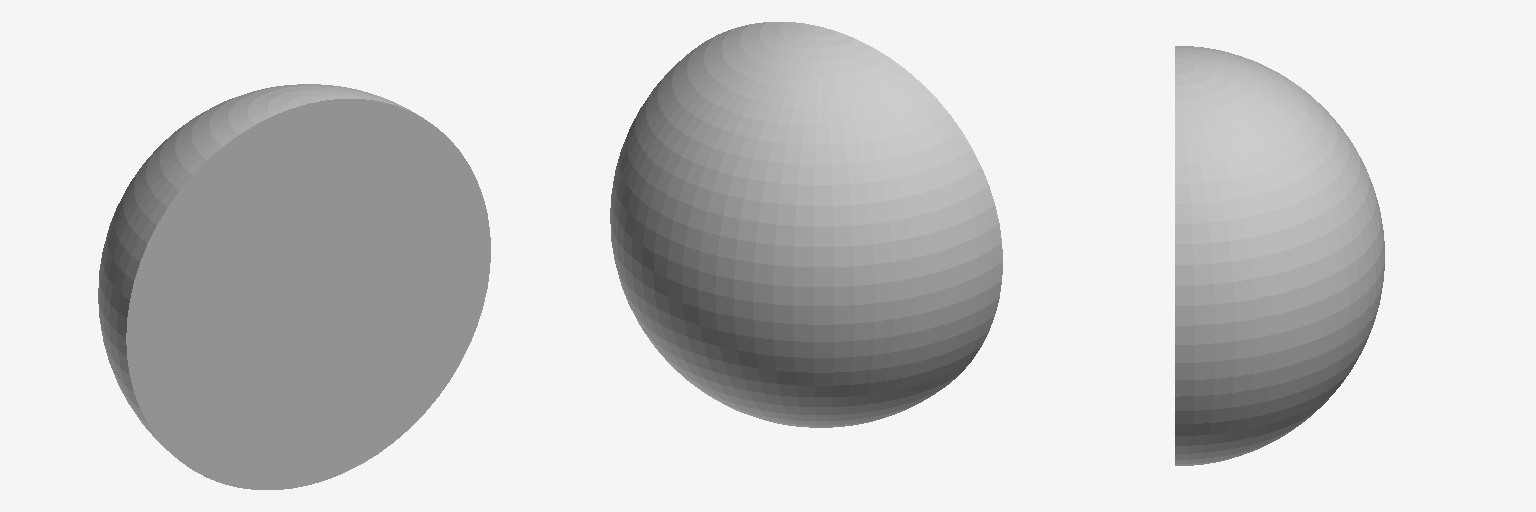
The model's file is hemisphere.obj.
3 views of the same model, side by side, from view 1: azimuth 30°, elevation 25°; view 2: azimuth 150°, elevation 25°; view 3: azimuth 270°, elevation 25° (orthographic).
Parts seen in each view (by area): view 1: Sphere_Sphere.003; view 2: Sphere_Sphere.003; view 3: Sphere_Sphere.003.
Boxes of the visible parts, box(x1,y1,x2,y2) form: Sphere_Sphere.003: box(98, 84, 490, 489); Sphere_Sphere.003: box(610, 22, 1002, 427); Sphere_Sphere.003: box(1175, 46, 1384, 465).
Size of the model in its own units: 2 by 2 by 1.